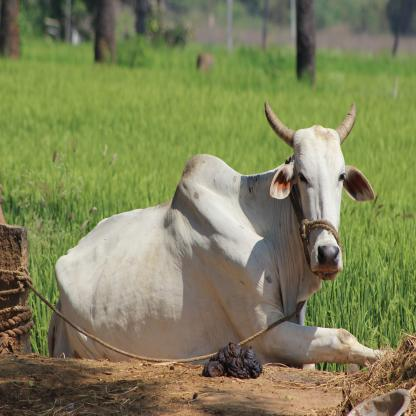cow: (43, 105, 374, 379)
